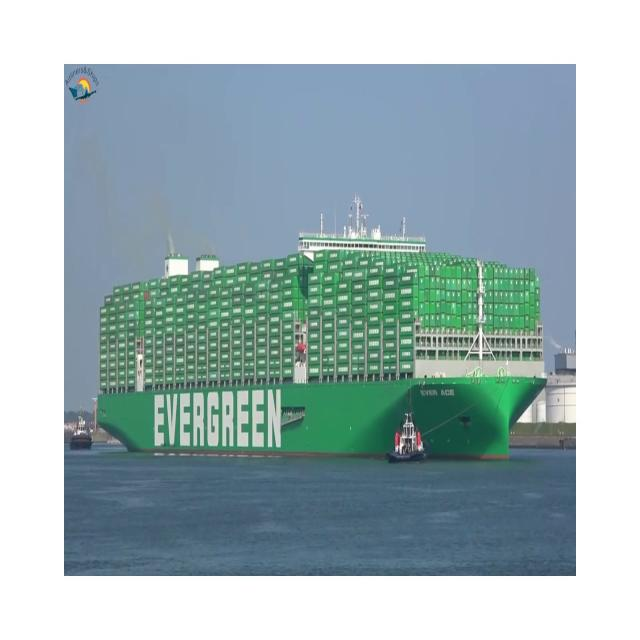OCR: (146, 387, 288, 461), (412, 377, 460, 405)
